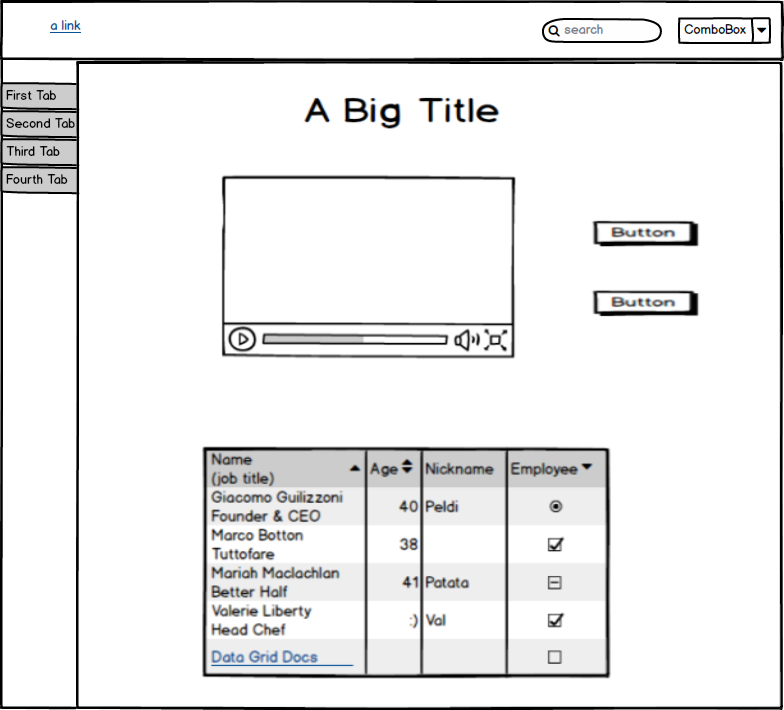button: (584, 217, 704, 253), (585, 285, 706, 319)
h1: (291, 84, 510, 134)
navlink: (42, 15, 90, 37)
search: (537, 12, 664, 48)
select_box: (673, 12, 777, 48)
sidebar: (1, 77, 84, 202)
table: (198, 442, 615, 682)
video: (216, 169, 524, 365)
